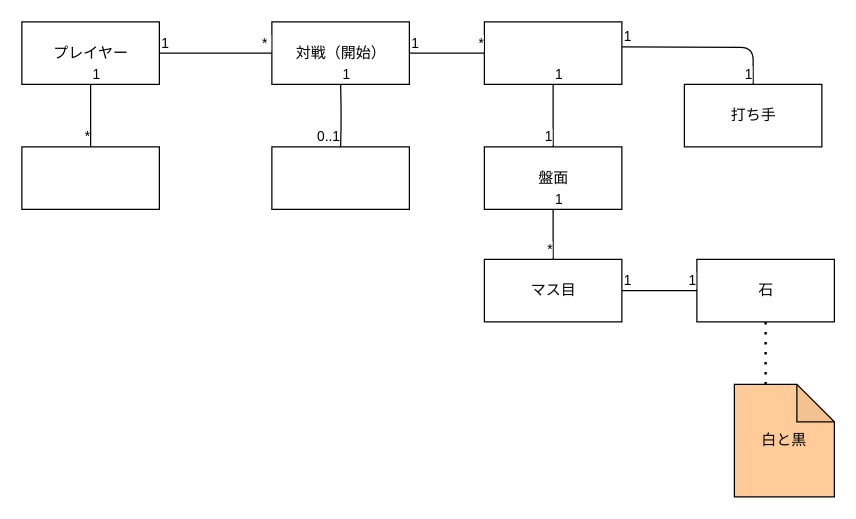
This 856x519 diagram has some shape labels left out. The box of each missing label's shape, as (x1, y1, x2, y2) in pixels:
ターン: (483, 21, 622, 84)
対戦結果: (271, 146, 409, 209)
過去全ての 対戦結果: (21, 146, 159, 209)
